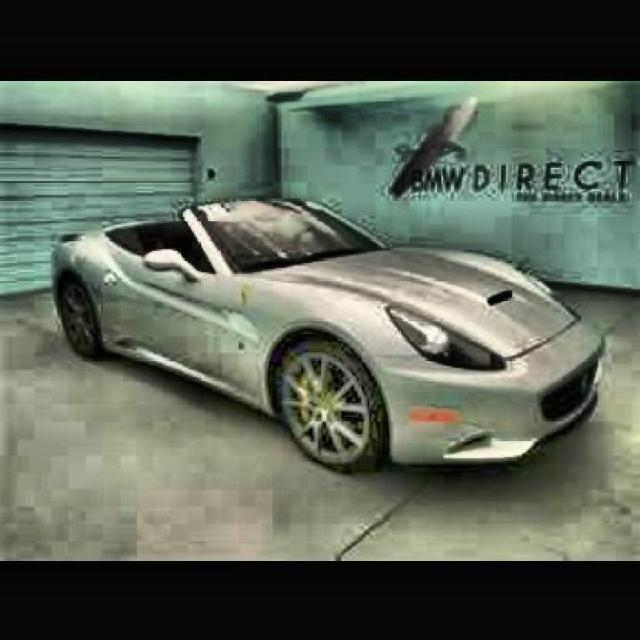silver: (52, 191, 604, 475)
